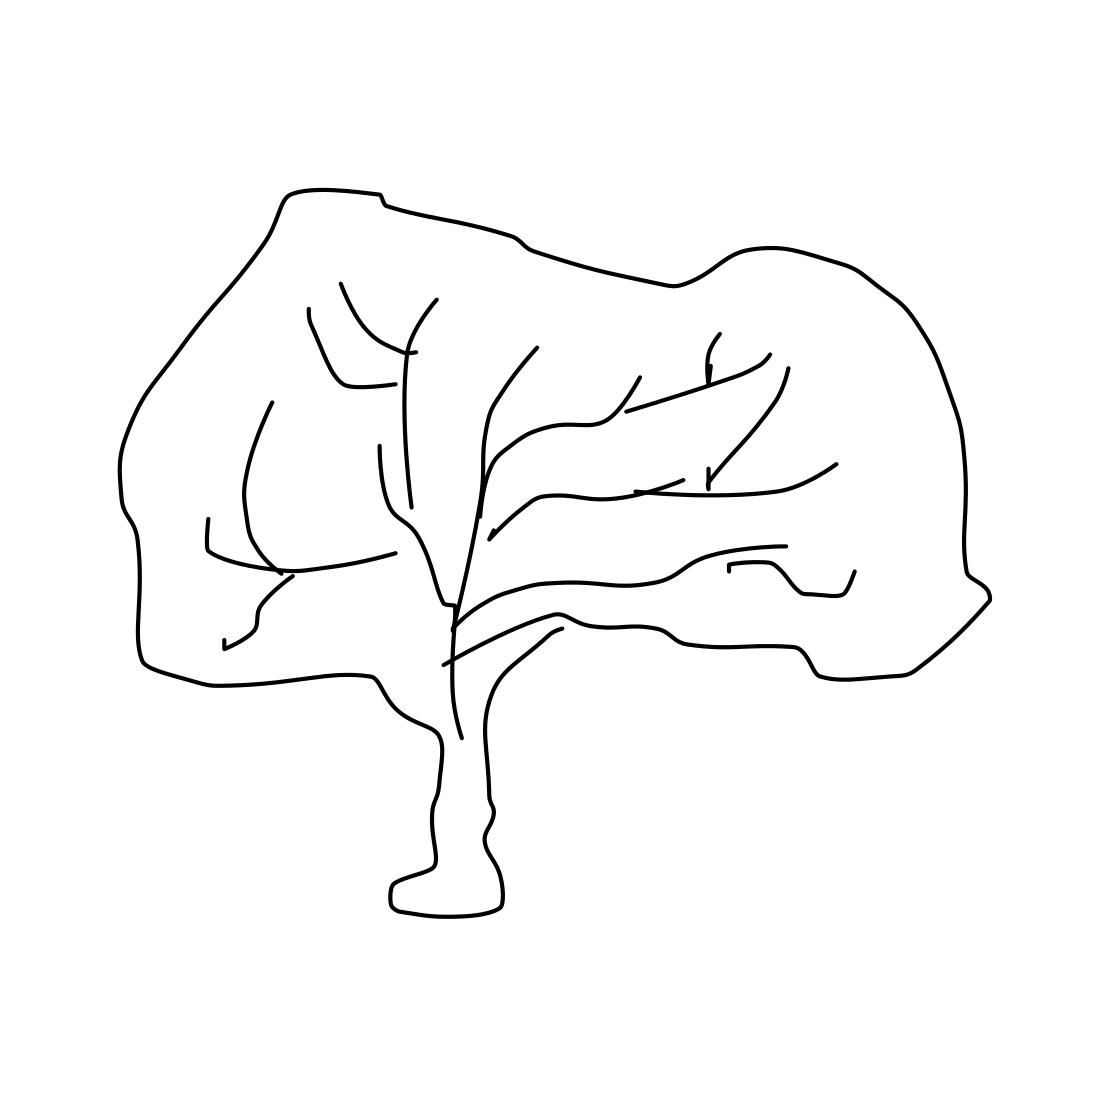Tree: (81, 126, 993, 913)
